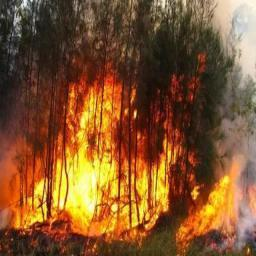Large fire: (15, 80, 233, 243)
Low smoke: (212, 5, 256, 248)
